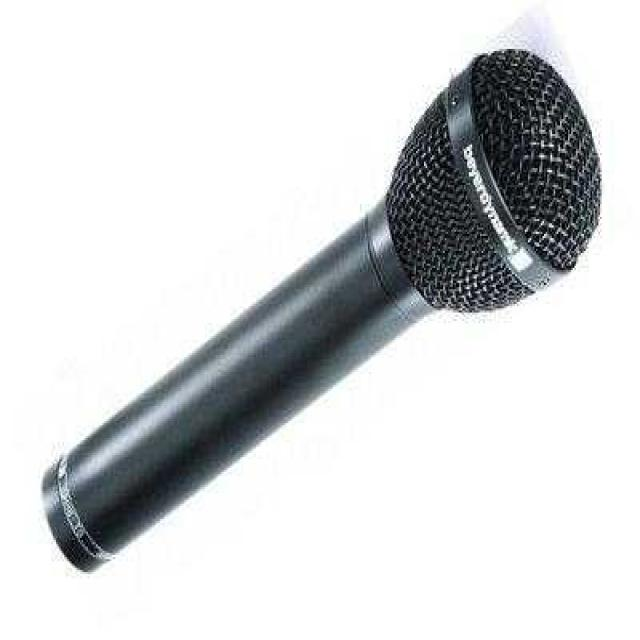microphone: (38, 47, 600, 573)
